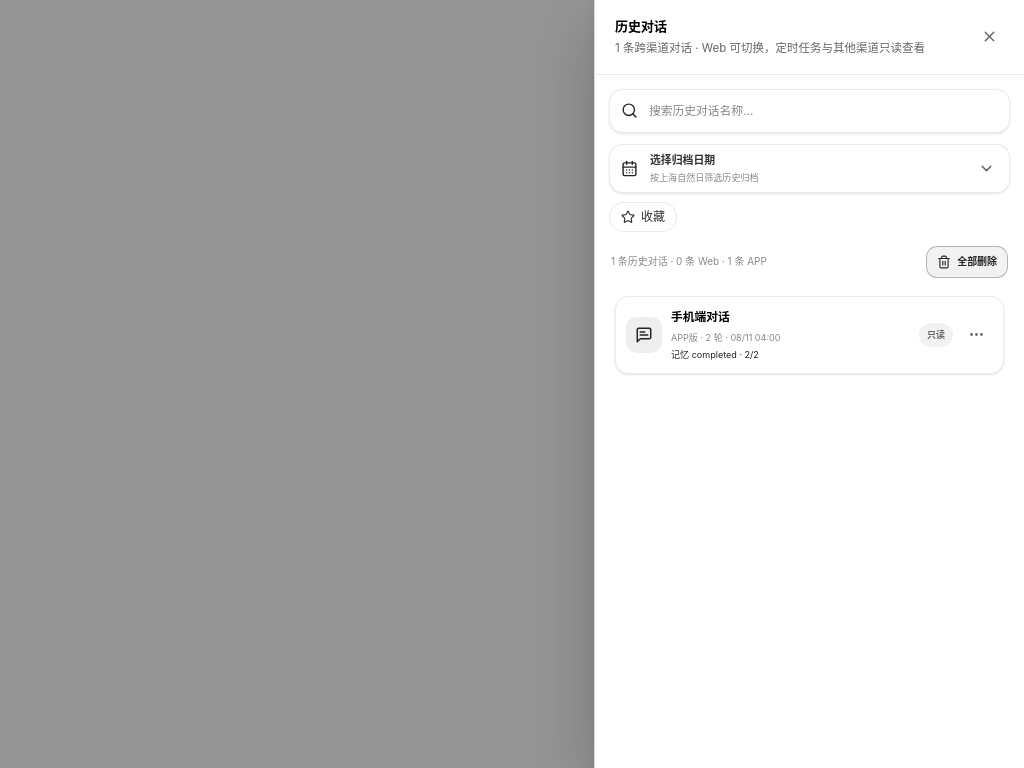
Test: HistorySearchDrawer › APP 会话显示 APP版并以只读方式打开
Expected: the text "1 条历史对话 · 0 条 Web · 1 条 APP" is shown, [611, 254, 767, 270]
Expected: the text "APP版 · 2 轮 · 08/11 04:00" is shown, [671, 332, 780, 343]
Click the button with aria-label "只读查看对话 手机端对话" at coordinates (644, 335), box [623, 305, 956, 365]
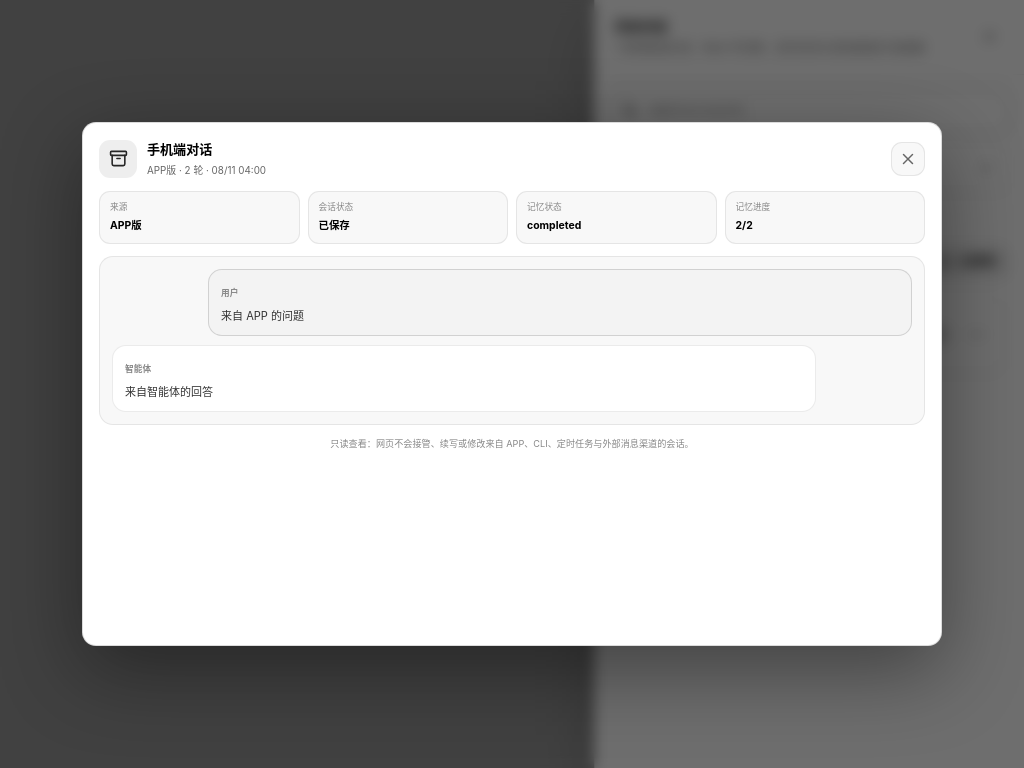
Expected: the text "来自 APP 的问题" is shown, [221, 309, 304, 323]
